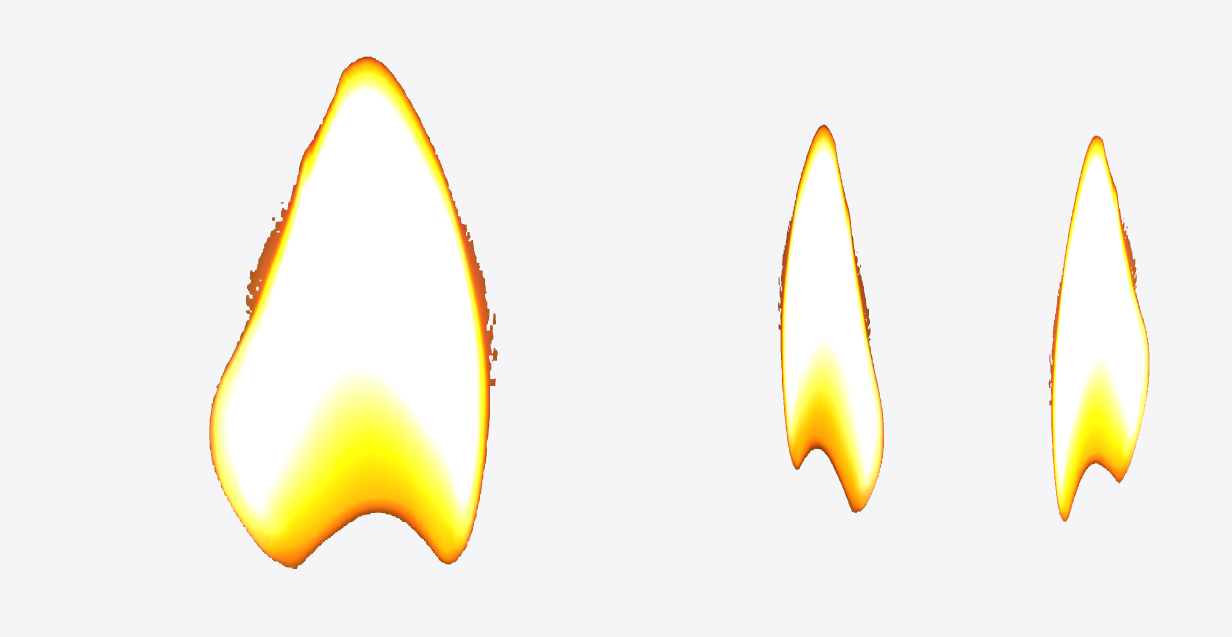
3 renders of one model, left to right at view 1: azimuth 30°, elevation 25°; view 2: azimuth 150°, elevation 25°; view 3: azimuth 270°, elevation 25°, orthographic. The views are drawn at different scales.
Visible parts, largest first — view 1: _115; view 2: _115; view 3: _115.
Part boxes in pixels (x1,y1,x2,y2): _115: (209,56,497,568); _115: (778,124,883,512); _115: (1048,135,1149,521).
Size of the model in its own units: 8.14 by 9.32 by 4.55.
